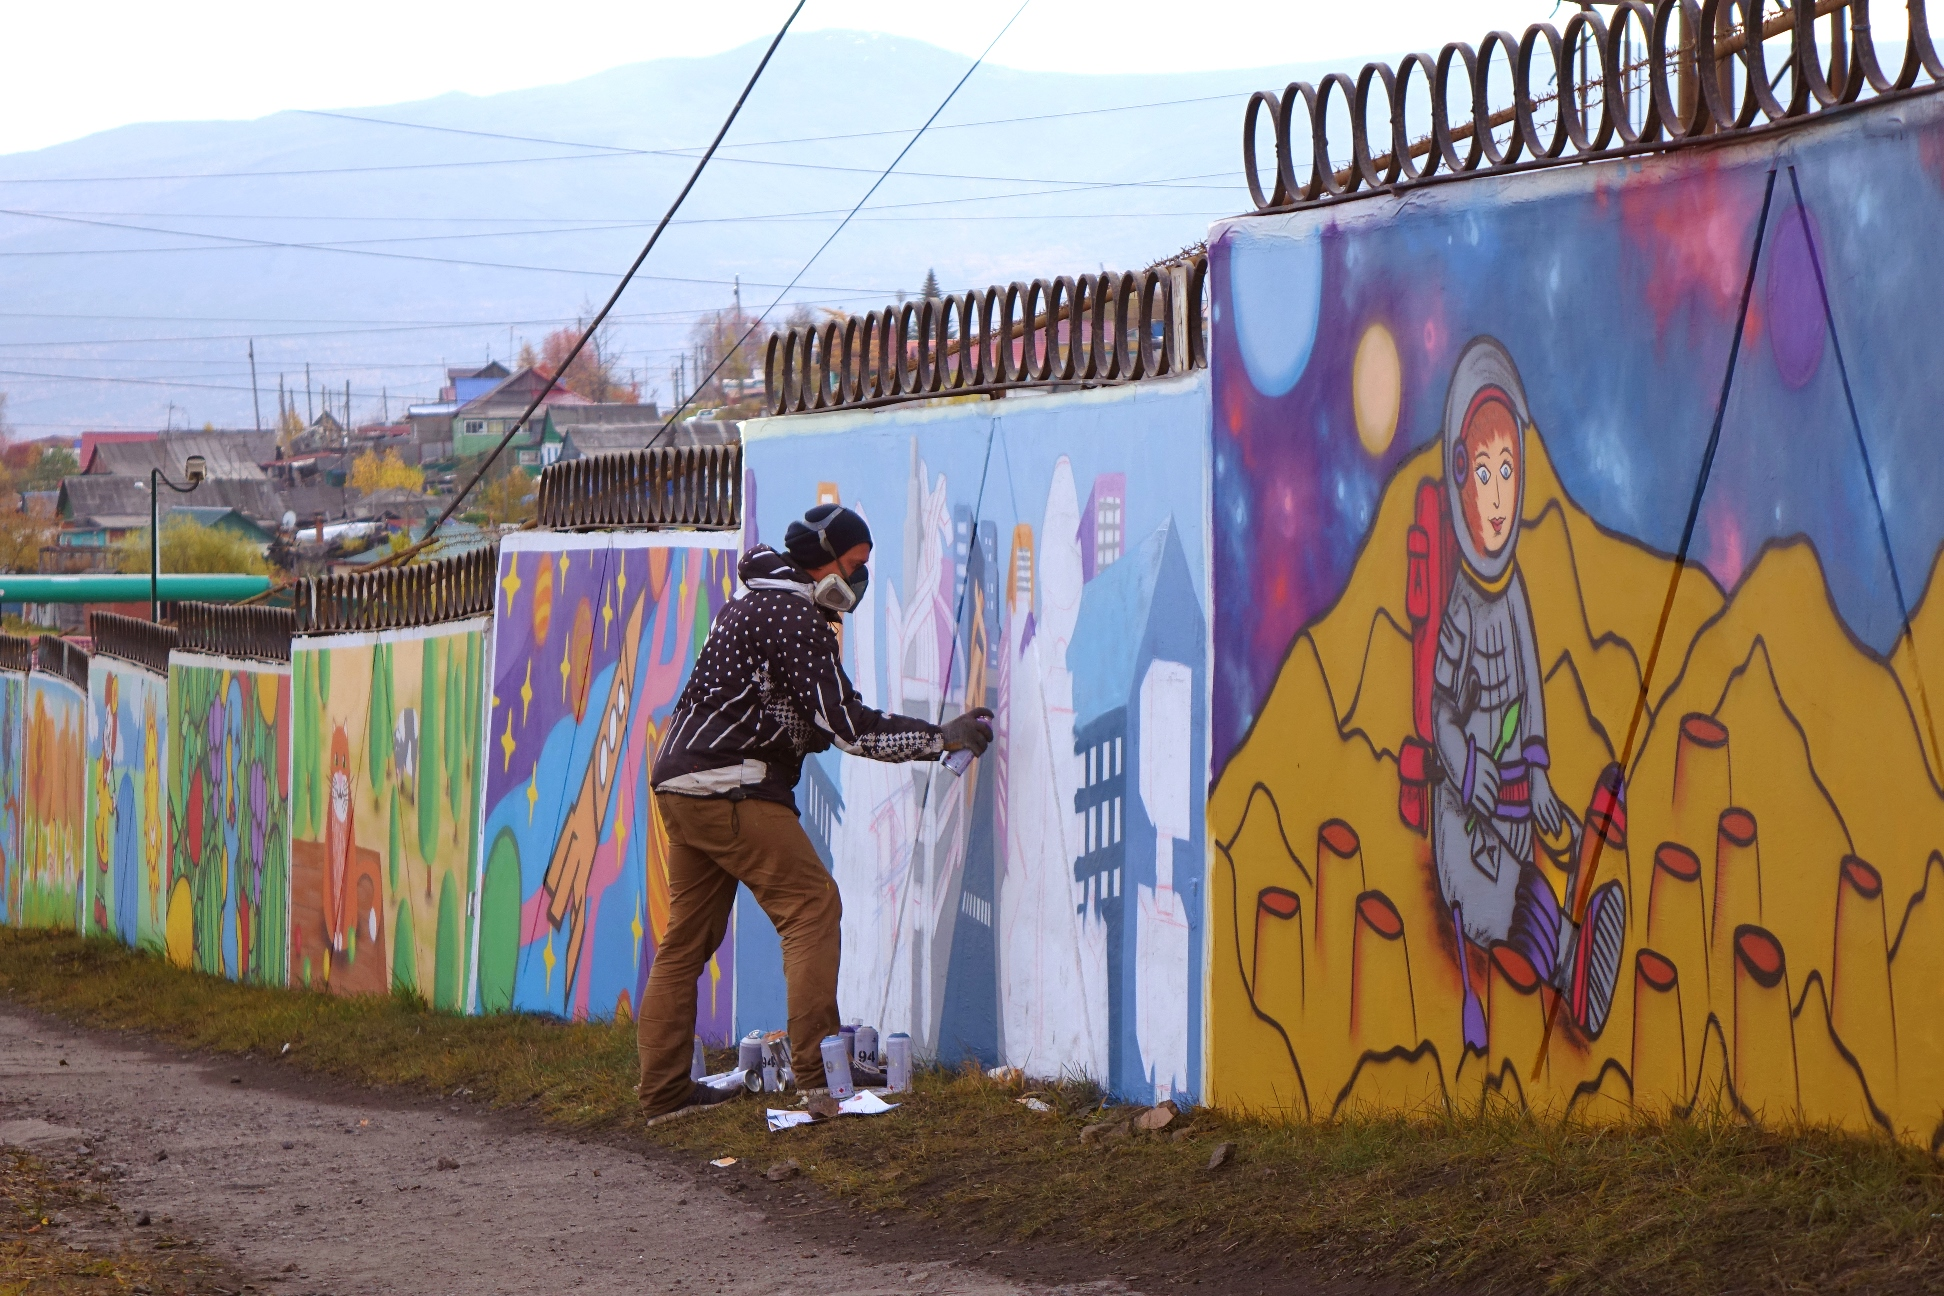graphite: (1216, 231, 1944, 1166), (913, 461, 1201, 1086), (500, 561, 665, 1053), (286, 658, 474, 1018), (166, 681, 310, 989)
